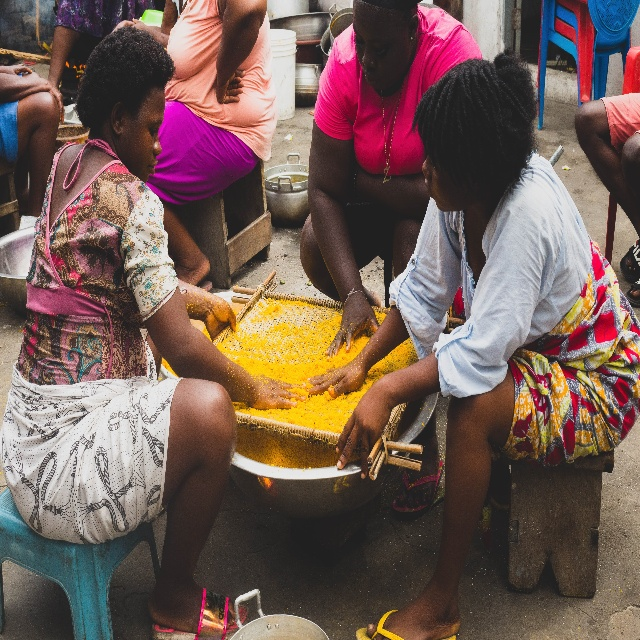Sin_guantes: (336, 379, 393, 480), (324, 294, 380, 362), (305, 357, 367, 398), (247, 375, 306, 410), (205, 295, 237, 343), (215, 66, 246, 104), (48, 81, 65, 126), (3, 63, 33, 76), (132, 18, 146, 31)
